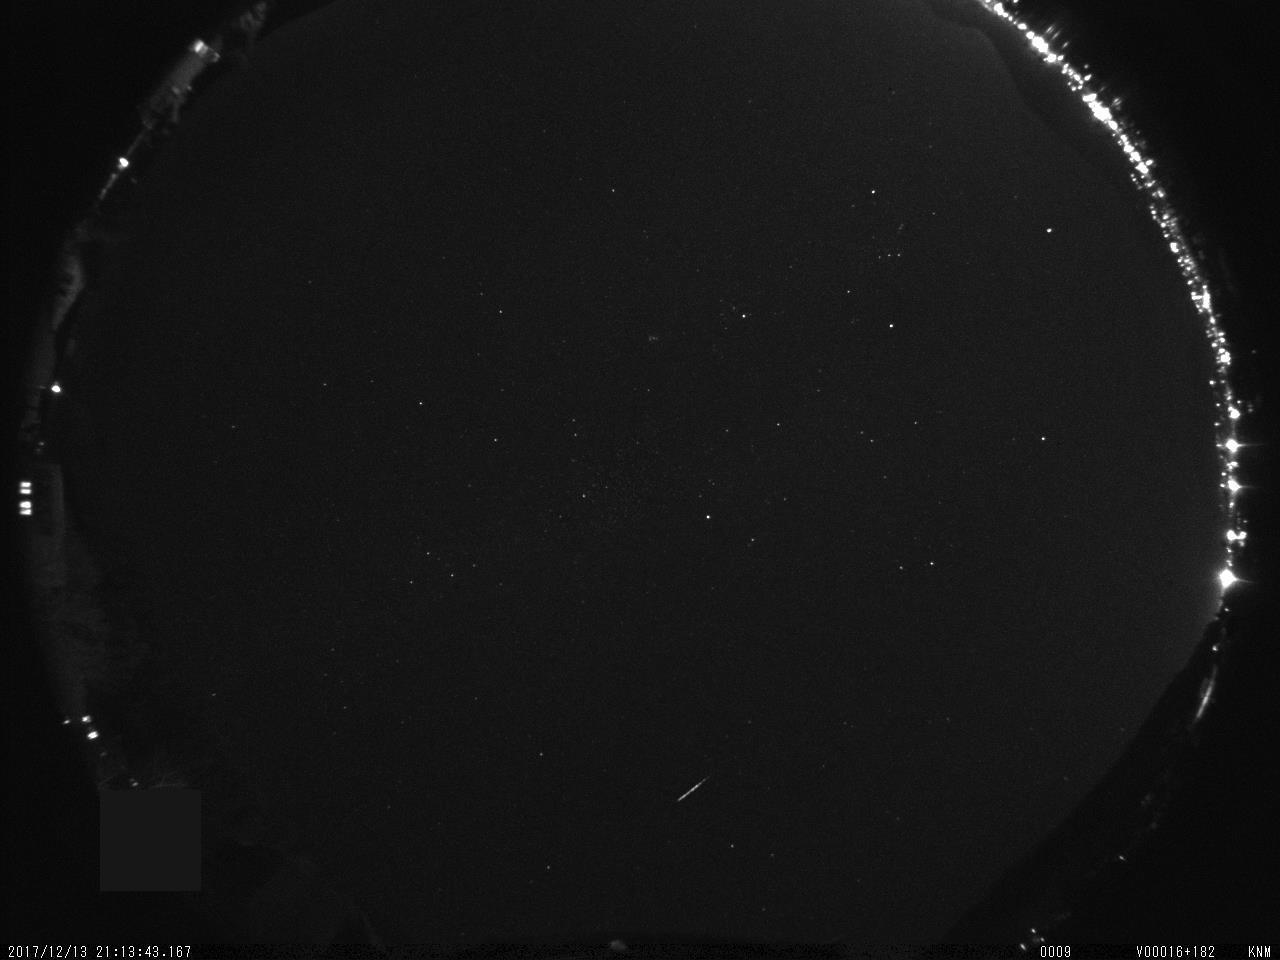Meteor: (675, 768, 717, 805)
